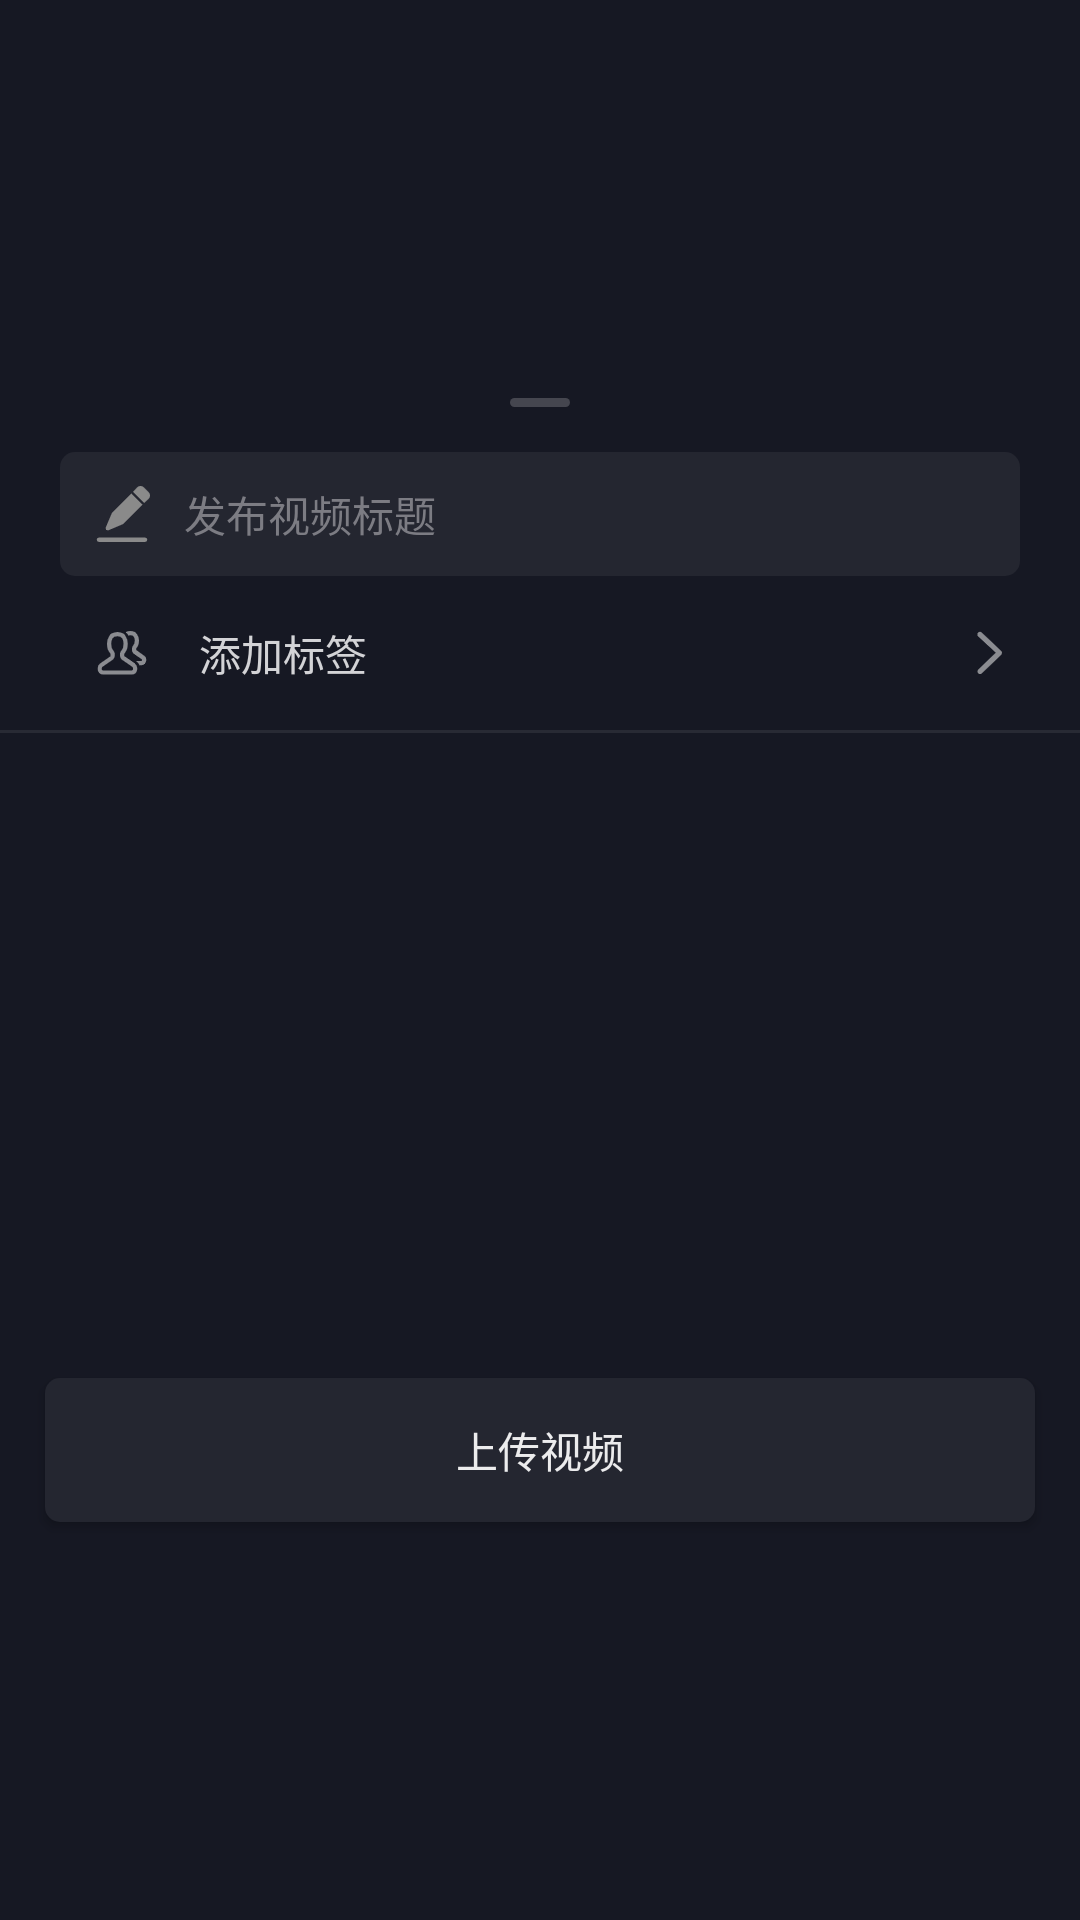

Icons on this 1080px x 1920px Android screen, each with the point to tap as (x=x, y=y):
edit: (x=123, y=514)
right: (x=989, y=653)
